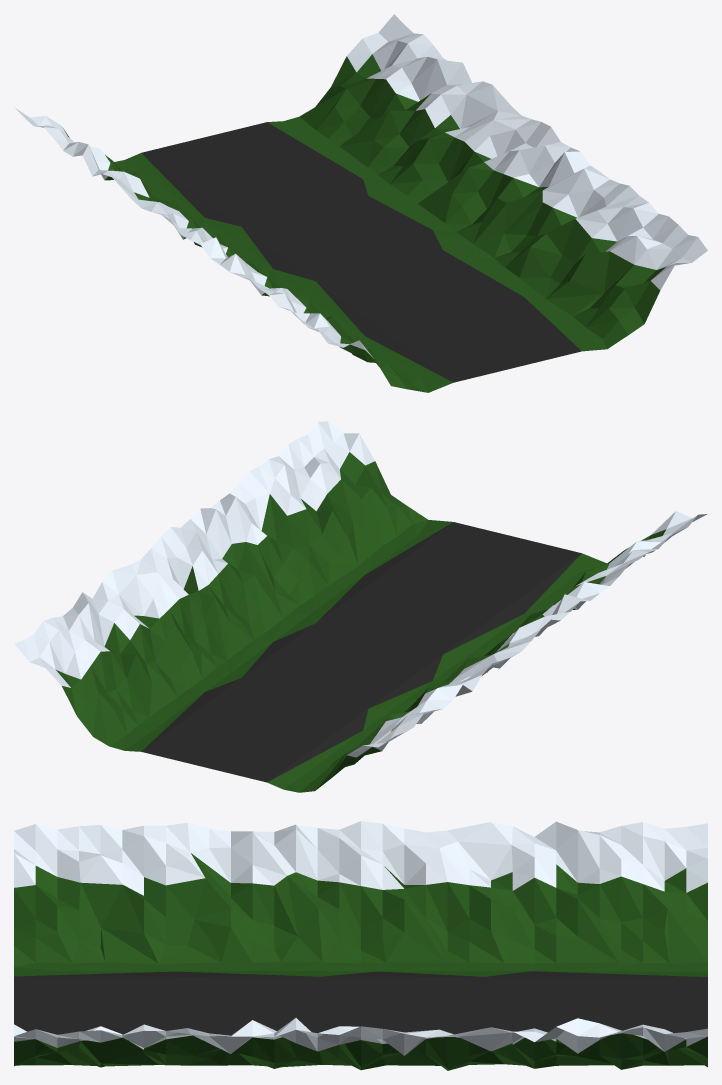
The model's file is location2.obj.
The picture shows the model from 3 angles, top to bottom: view 1: azimuth 30°, elevation 25°; view 2: azimuth 150°, elevation 25°; view 3: azimuth 270°, elevation 25°; orthographic projection. The views are drawn at different scales.
Visible parts, largest first — view 1: LowPolyRoad_Symmetric; view 2: LowPolyRoad_Symmetric; view 3: LowPolyRoad_Symmetric.
Boxes of the visible parts, x1,y1,x2,y2 form: LowPolyRoad_Symmetric: [15, 14, 707, 392]; LowPolyRoad_Symmetric: [14, 421, 707, 792]; LowPolyRoad_Symmetric: [14, 821, 707, 1070].
Size of the model in its own units: 70.02 by 14.64 by 100.
